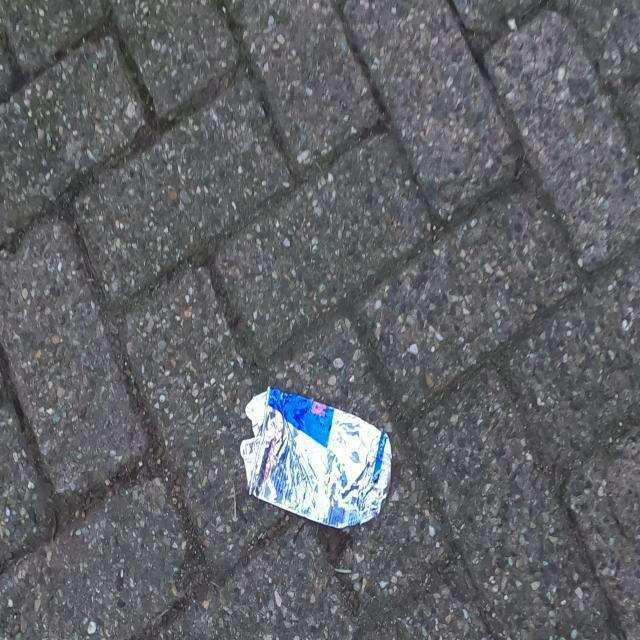Can-Metal: (238, 382, 394, 534)
